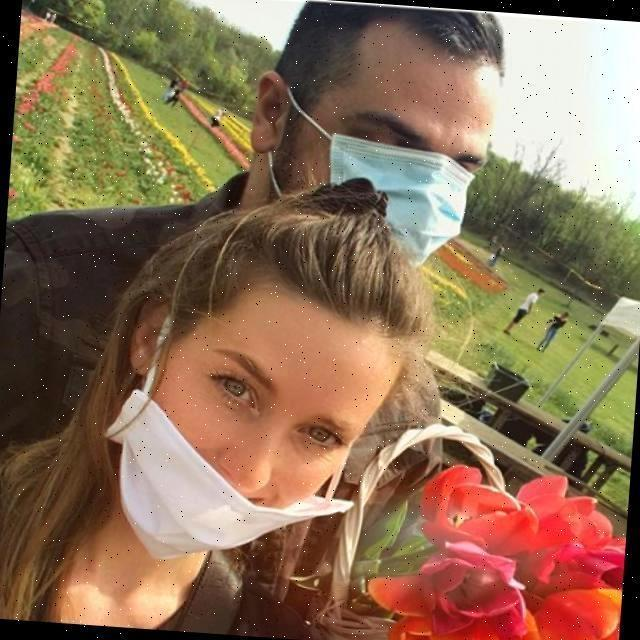mask: (352, 143, 472, 236)
no_gloves: (198, 222, 400, 326), (349, 0, 593, 73)
no_hairnet: (149, 415, 321, 525)
